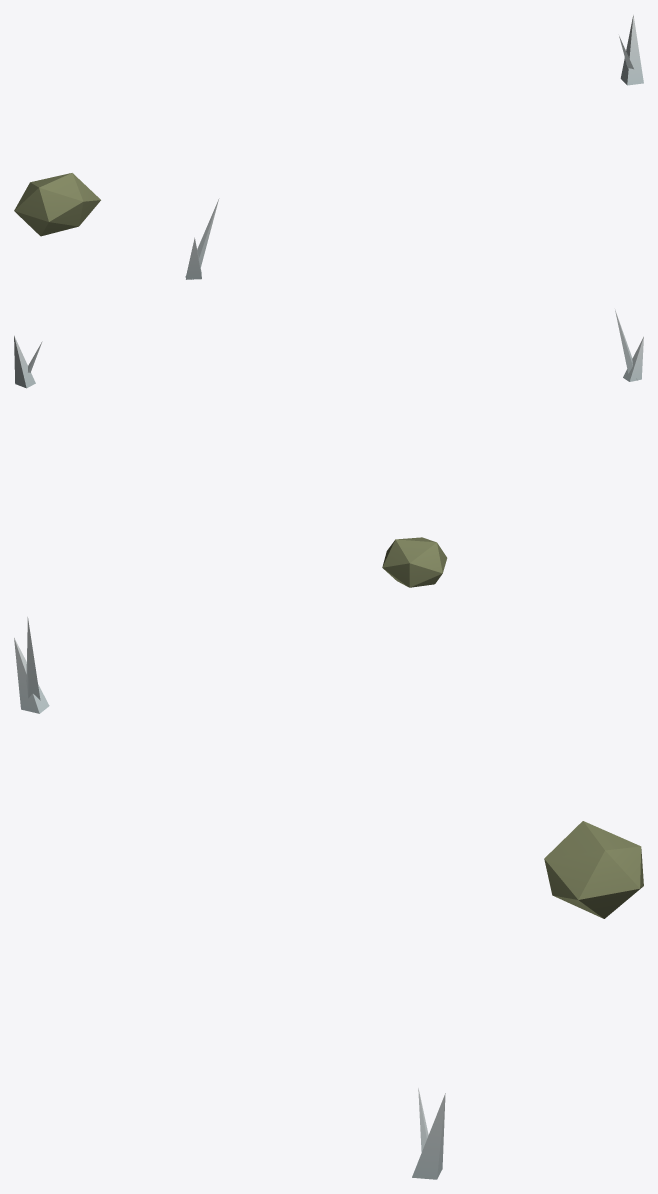
Rendered from coast_land_scatter_c09_20_lod1.glb.
3 renders of one model, top to bottom at view 1: azimuth 30°, elevation 25°; view 2: azimuth 150°, elevation 25°; view 3: azimuth 270°, elevation 25°, orthographic. The views are drawn at different scales.
Visible parts, largest first — view 1: coast_land_scatter_c09_20_lod1; view 2: coast_land_scatter_c09_20_lod1; view 3: coast_land_scatter_c09_20_lod1.
Boxes of the visible parts, bbox=[...] form: coast_land_scatter_c09_20_lod1: bbox=[14, 14, 643, 279]; coast_land_scatter_c09_20_lod1: bbox=[14, 309, 643, 587]; coast_land_scatter_c09_20_lod1: bbox=[14, 617, 643, 1179].
Size of the model in its own units: 21.63 by 6.47 by 13.93.
